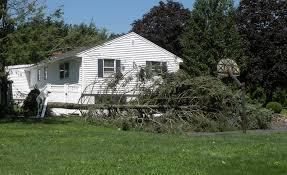major: (2, 26, 190, 121)
